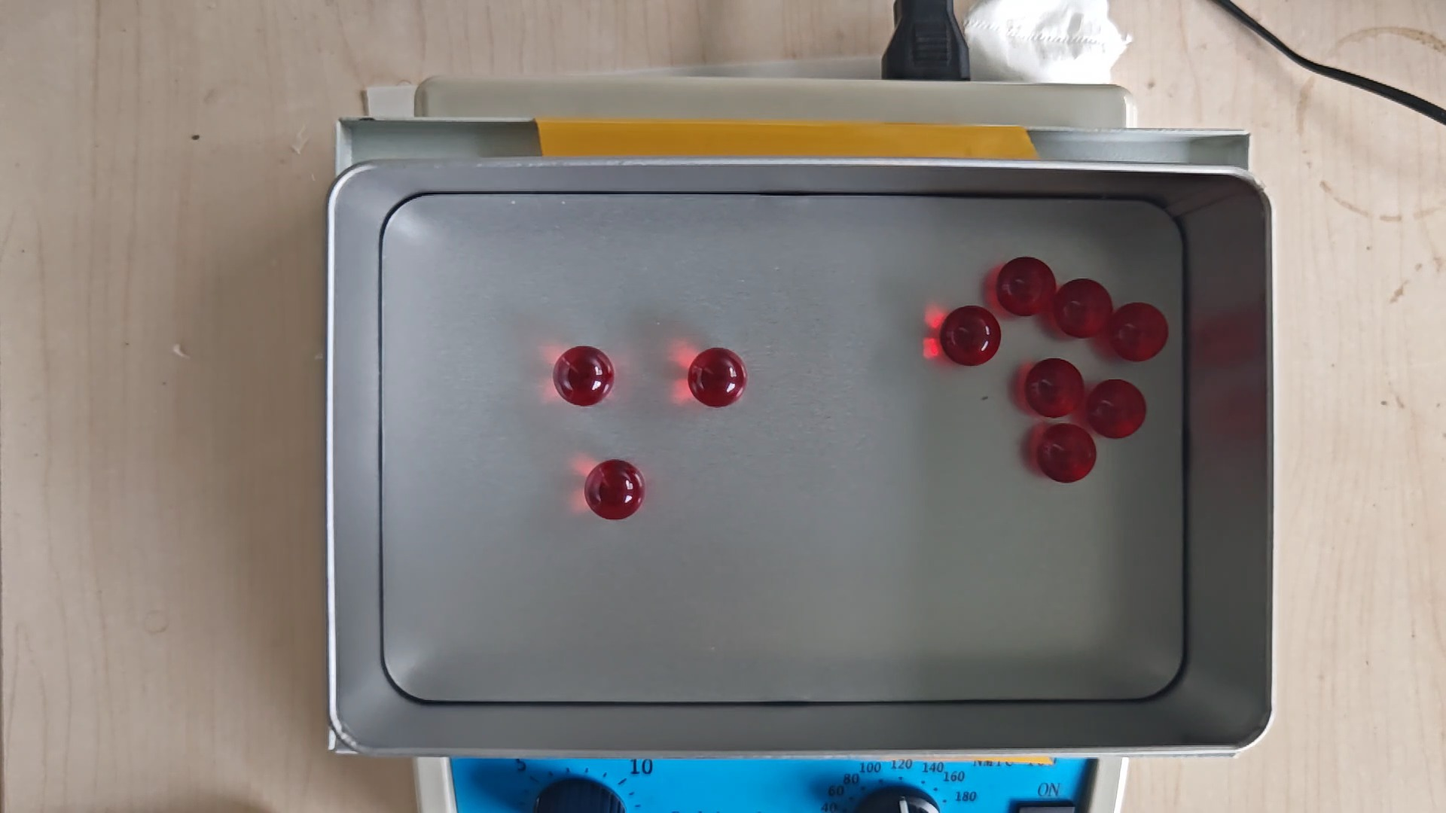ball: (585, 458, 646, 522), (1036, 422, 1097, 484), (554, 344, 614, 407), (1109, 302, 1170, 363), (1025, 358, 1086, 419), (941, 305, 1001, 367), (1054, 277, 1113, 339), (997, 256, 1056, 317), (688, 347, 746, 409), (1088, 379, 1147, 439)
container: (380, 193, 1185, 703)
